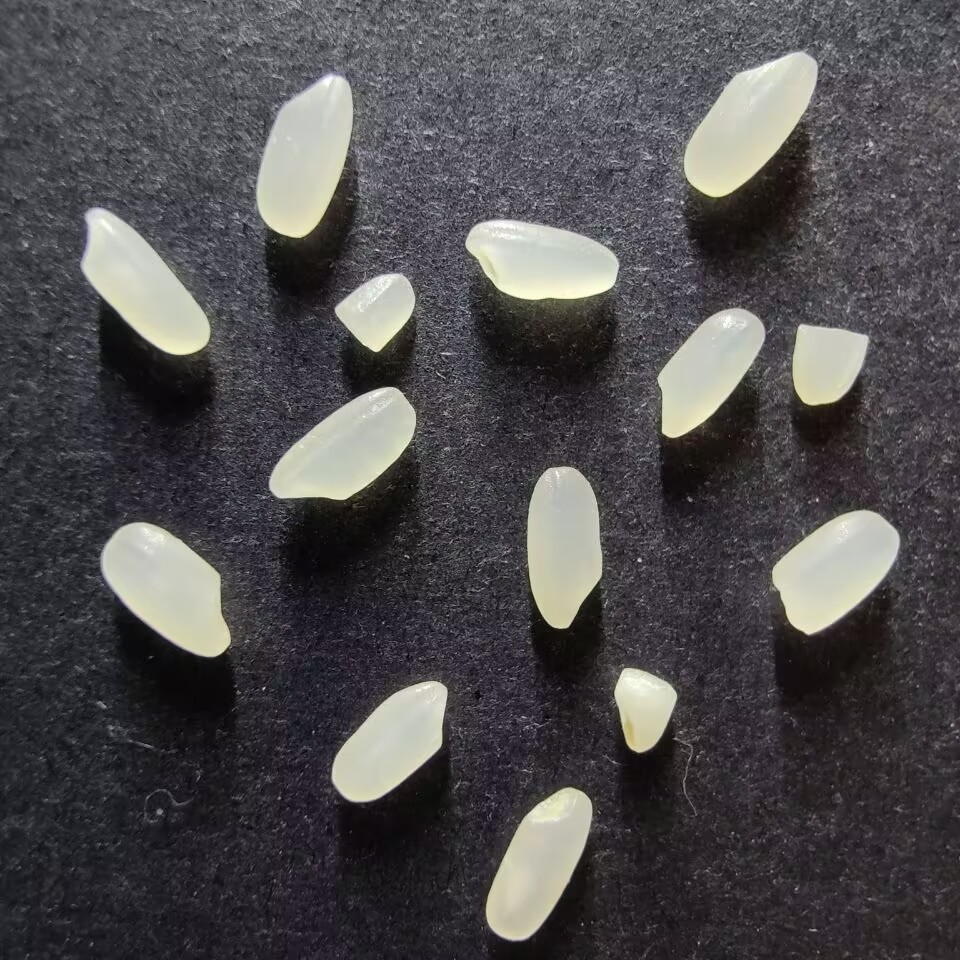broken: (332, 273, 415, 353), (792, 322, 868, 405), (613, 665, 677, 754)
rice: (683, 50, 818, 197), (80, 209, 210, 355), (99, 521, 231, 658), (268, 386, 416, 501), (484, 786, 592, 941), (770, 509, 899, 636), (255, 74, 353, 239), (656, 306, 766, 438), (330, 679, 447, 803), (526, 465, 603, 629), (464, 220, 619, 300)
